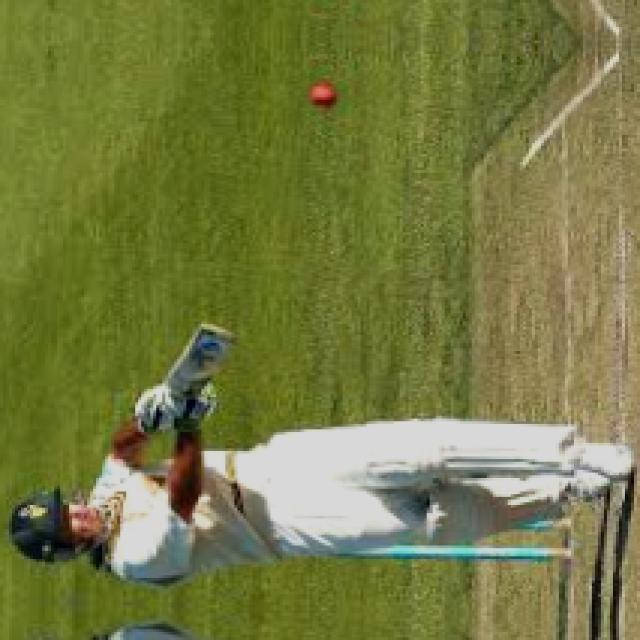toe: (183, 318, 254, 350)
